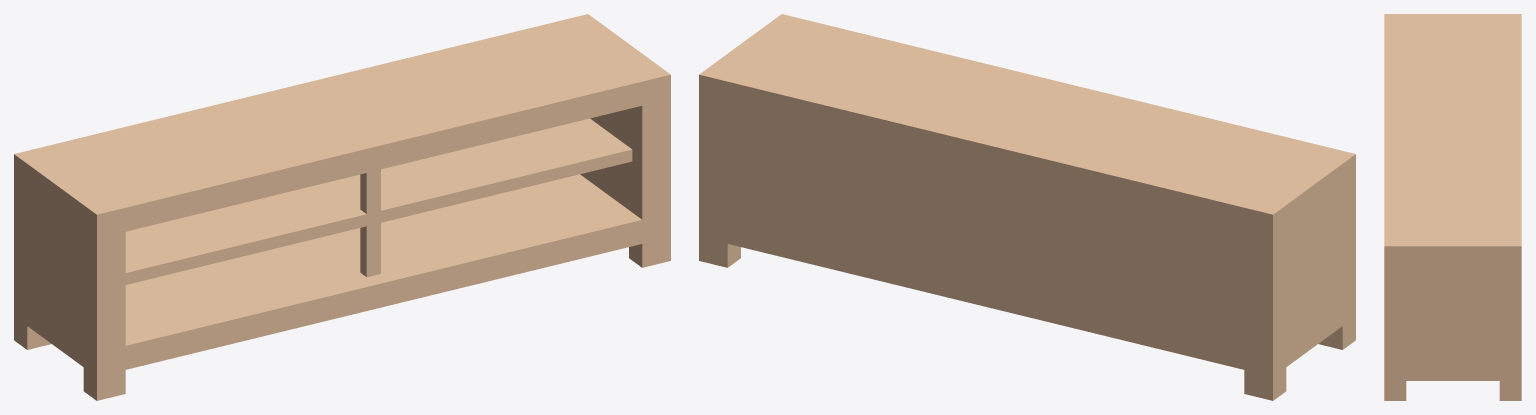
The model's file is cabinetTelevision-col.glb.
The picture shows the model from 3 angles, left to right: view 1: azimuth 30°, elevation 25°; view 2: azimuth 150°, elevation 25°; view 3: azimuth 270°, elevation 25°; orthographic projection. The views are drawn at different scales.
Parts seen in each view (by area): view 1: cabinetTelevision-col; view 2: cabinetTelevision-col; view 3: cabinetTelevision-col.
Part boxes in pixels (x1,y1,x2,y2): cabinetTelevision-col: [14, 14, 670, 400]; cabinetTelevision-col: [699, 14, 1355, 400]; cabinetTelevision-col: [1384, 14, 1521, 400].
Size of the model in its own units: 1 by 0.31 by 0.25.
